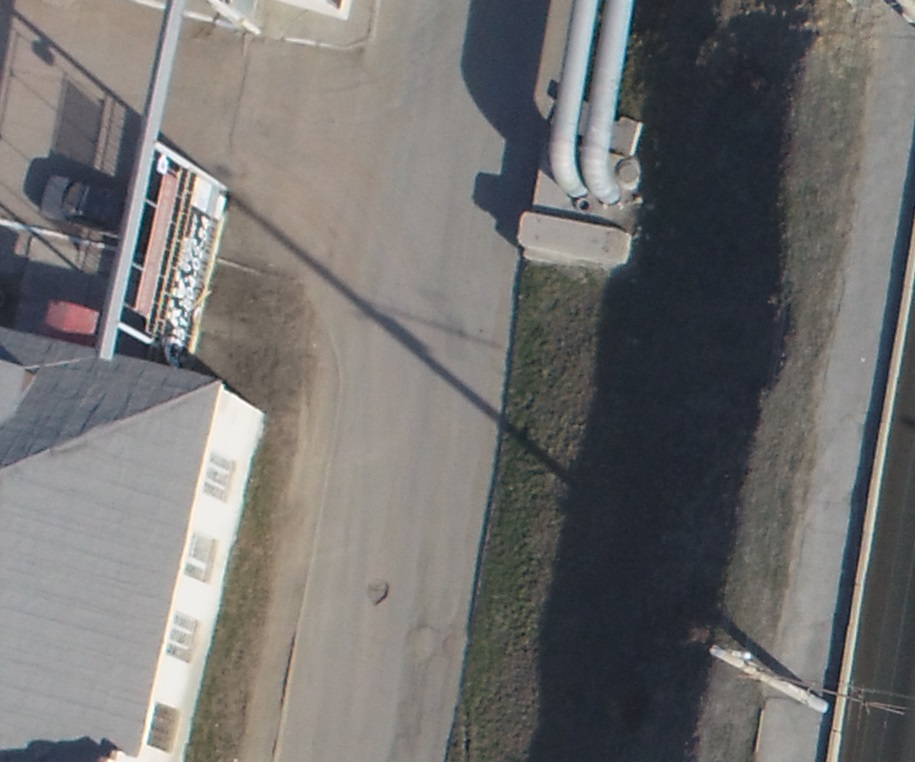opora: (708, 607, 829, 716)
